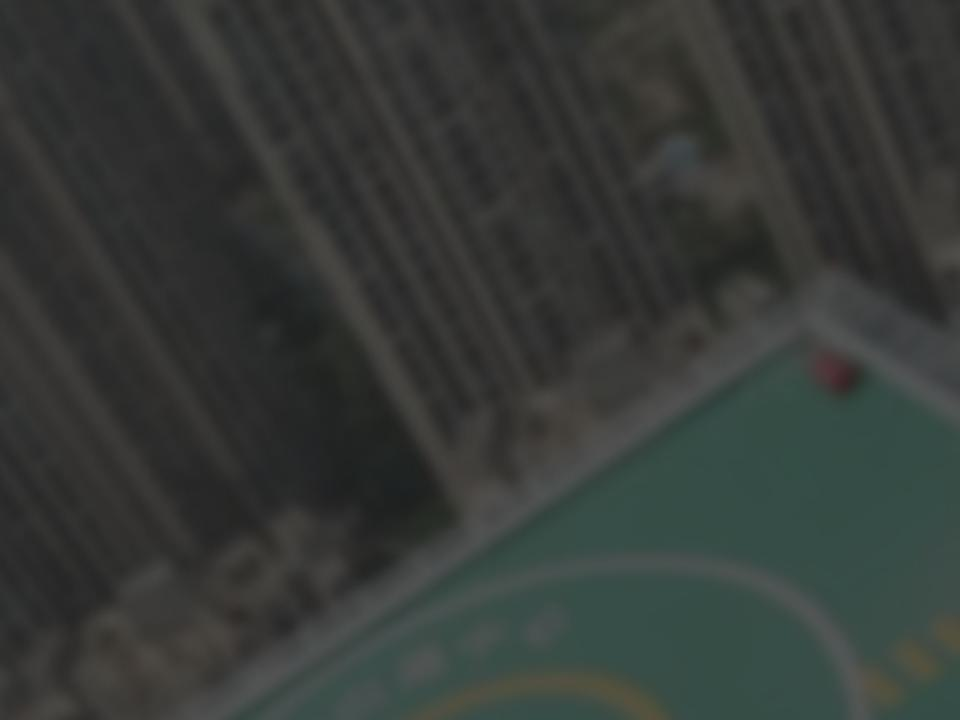Apron: (310, 649, 673, 720)
